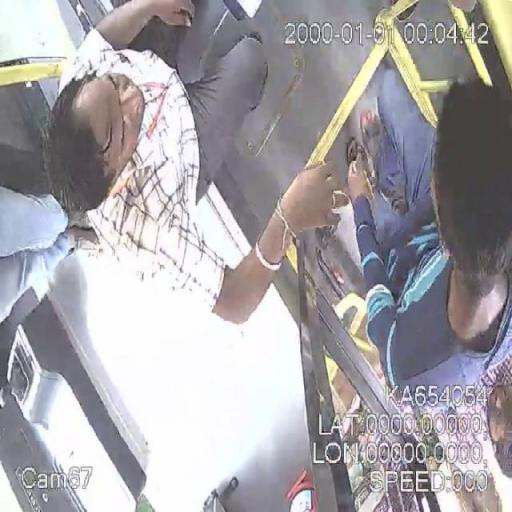persona: (42, 2, 350, 332), (342, 72, 511, 511)
